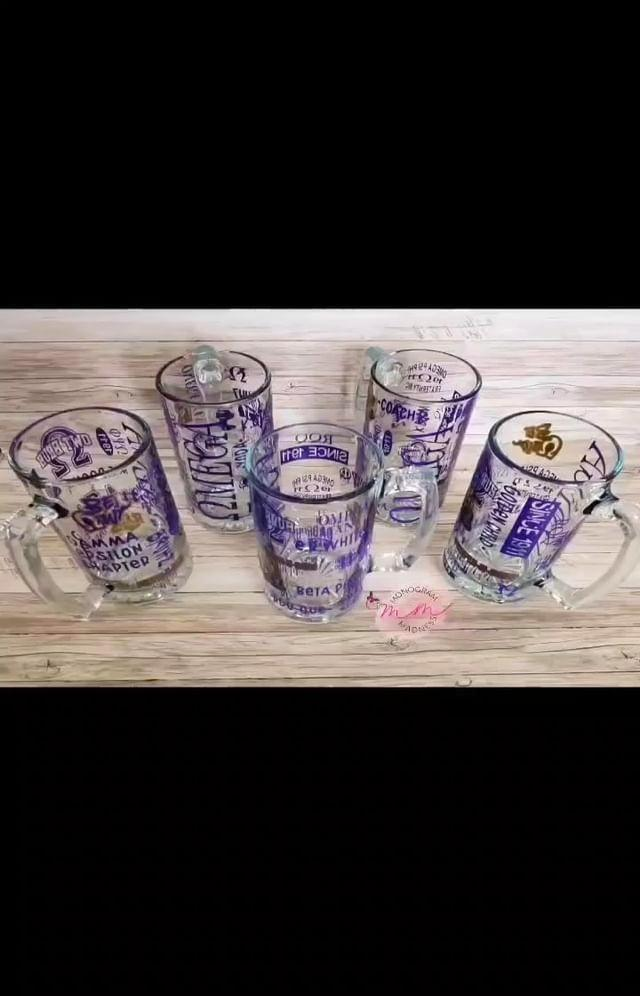glass-mug: (442, 409, 638, 617), (4, 402, 196, 610), (243, 418, 441, 619), (154, 344, 287, 536), (356, 340, 484, 527)
